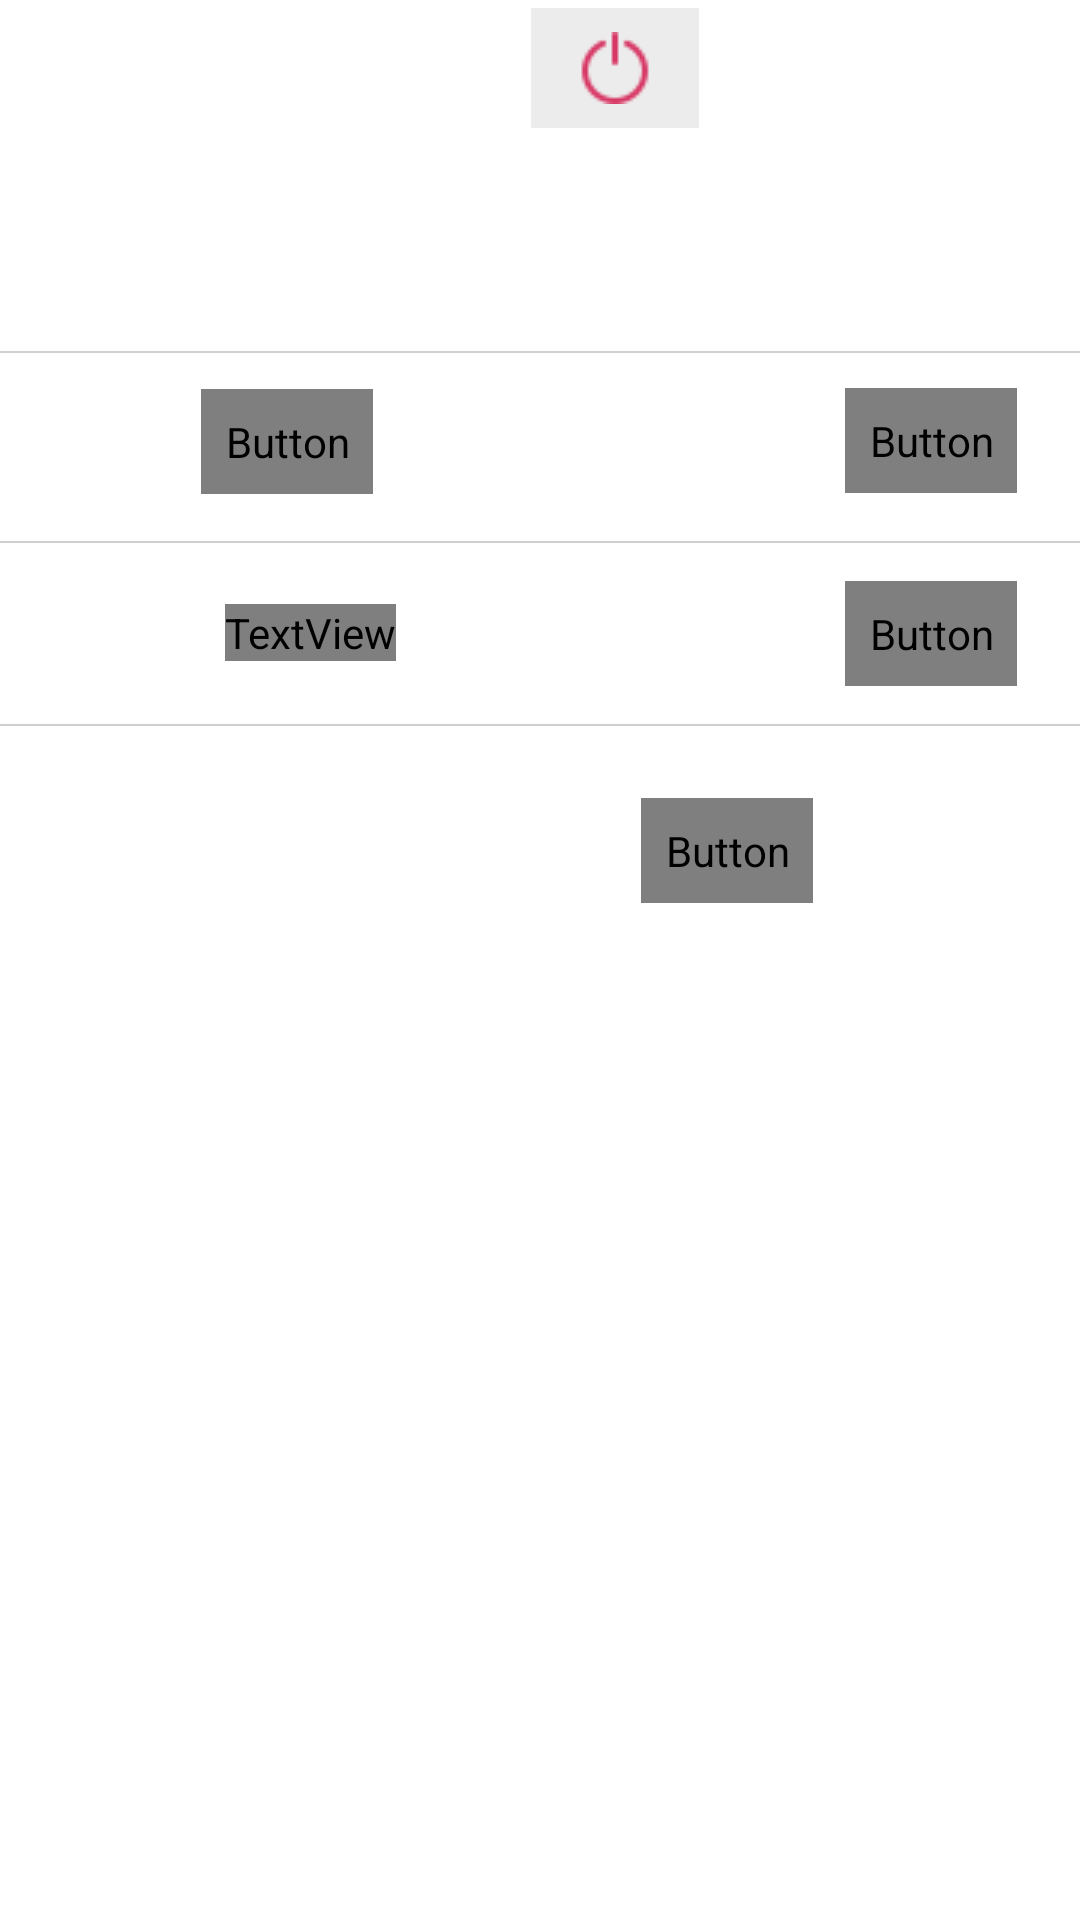

Point at icon controls on the screen. Image size 1080x1920, points as point (x, y).
exit: point (615, 68)
